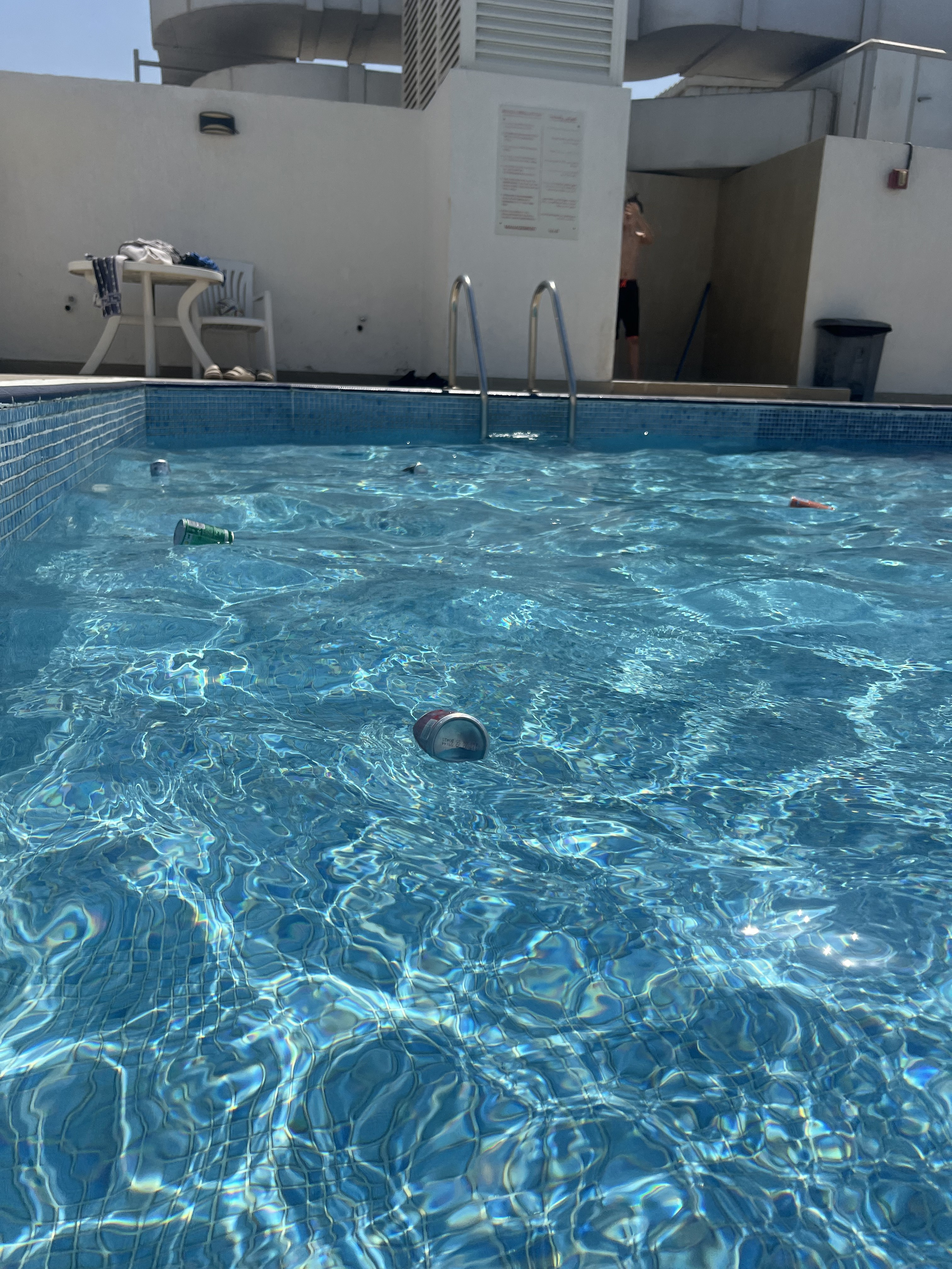debris: (408, 693, 489, 779), (173, 510, 237, 571), (398, 452, 432, 492), (148, 448, 173, 488)
